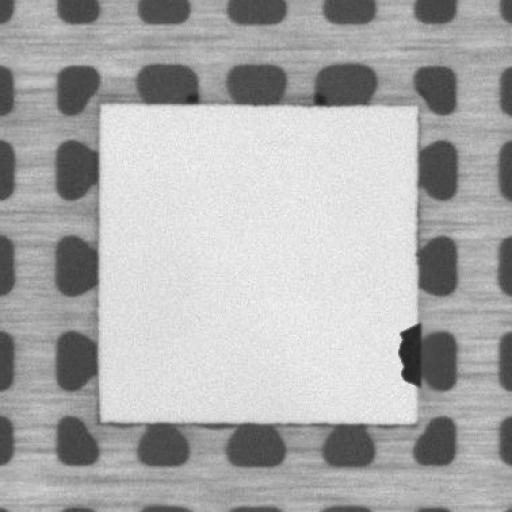DIE_BROKEN: (396, 320, 422, 388)
